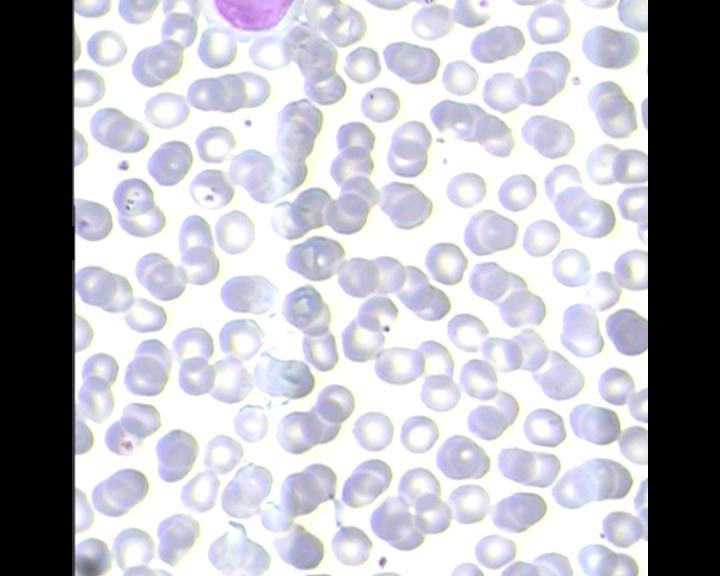mono: (192, 0, 308, 43)
